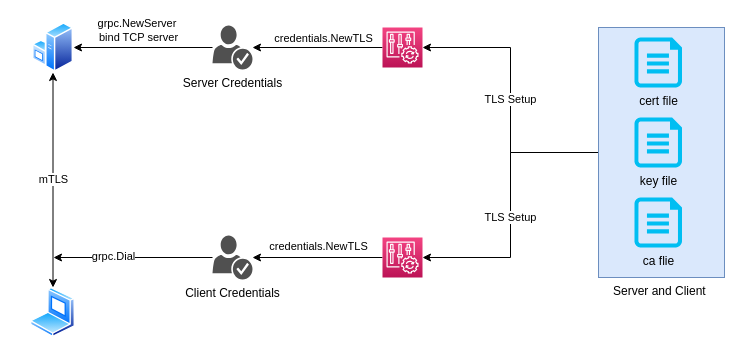
Image size: 742x354. Some labels were removed from this diagram. Each missing label, with the centre of its shape:
"Client TLS Config" belongs at (402,257).
"gRPC Server" belongs at (52,47).
"Server TLS Config" belongs at (402,47).
